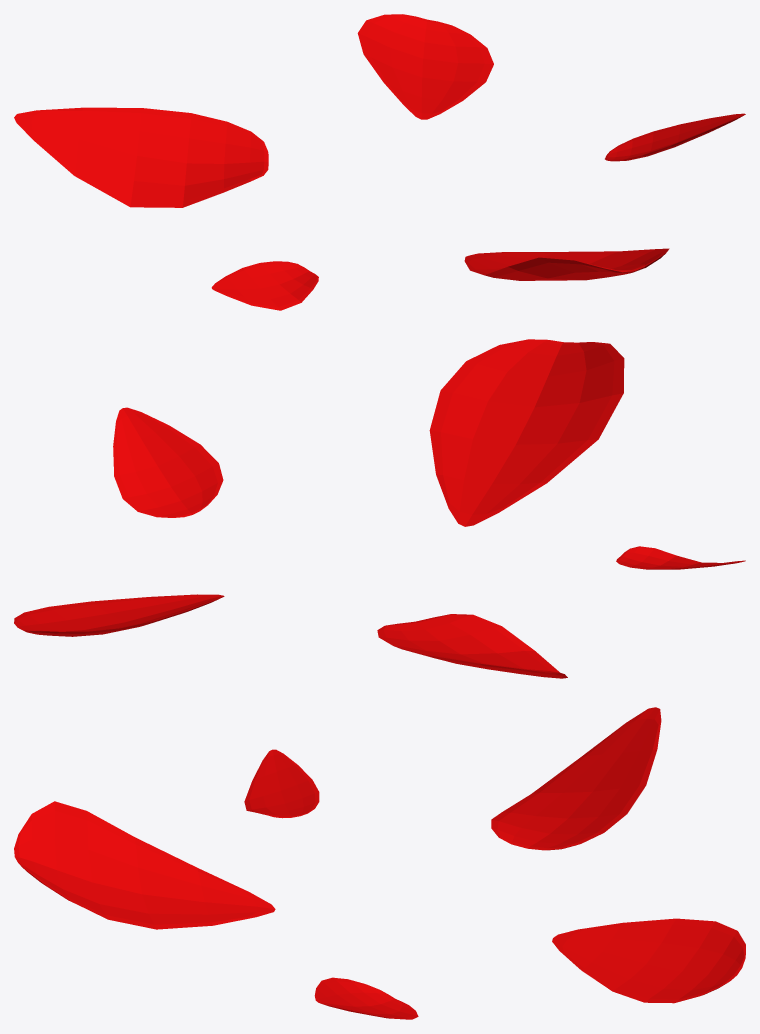
Rendered from rose_1_small.fbx.
3 views of the same model, one above another, from view 1: azimuth 30°, elevation 25°; view 2: azimuth 150°, elevation 25°; view 3: azimuth 270°, elevation 25° (orthographic). The views are drawn at different scales.
Visible parts, largest first — view 1: rose_1_small; view 2: rose_1_small; view 3: rose_1_small.
Part boxes in pixels (left/top/right/bottom): rose_1_small: left=14, top=14, right=745, bottom=310; rose_1_small: left=14, top=339, right=745, bottom=678; rose_1_small: left=14, top=707, right=745, bottom=1019.
Bounding box in the file's own units: 4.4 × 0.6423 × 4.82.
